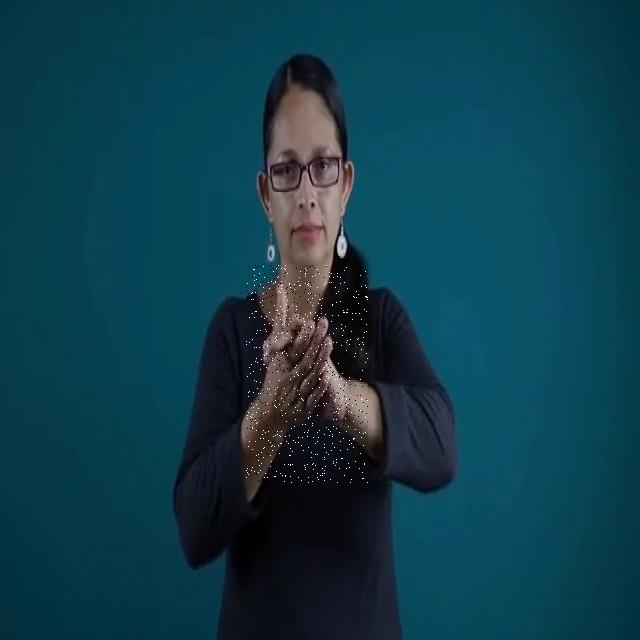burger: (246, 266, 368, 484)
